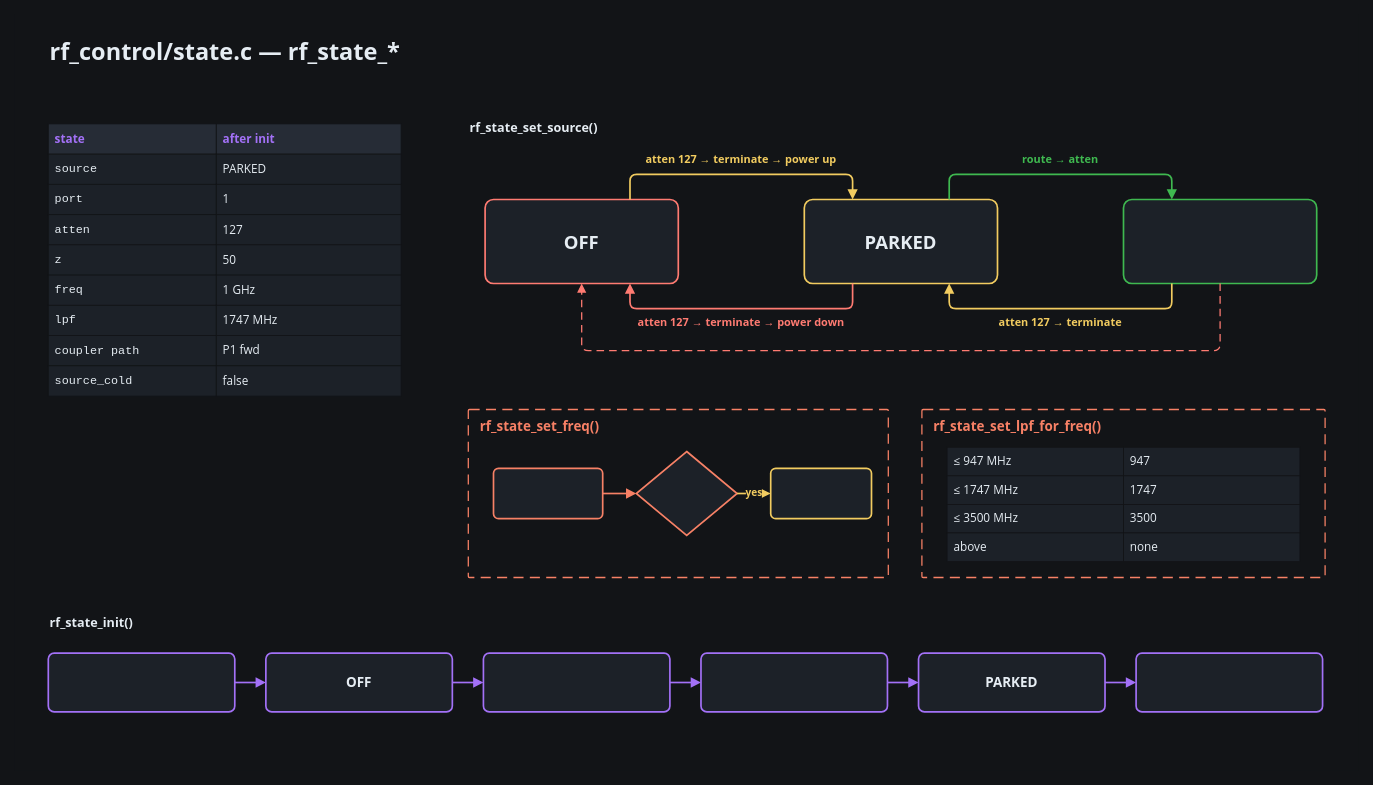
Image size: 1373x785. Some labels were removed from this diagram. The centre of each missing label's shape, as x and y in pixels:
1 GHz ×2: (x=1229, y=682)
20 ms tune: (x=820, y=493)
50 Ω · LPF · P1: (x=576, y=682)
cold?: (x=686, y=493)
init blocks: (x=141, y=682)
ON: (x=1219, y=241)
tune: (x=547, y=493)
wait 1 s: (x=794, y=682)
